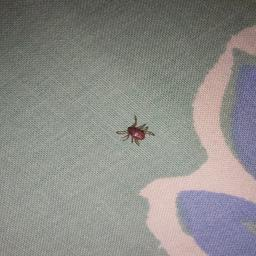Rhipicephalus sanguineus: (116, 116, 153, 146)
